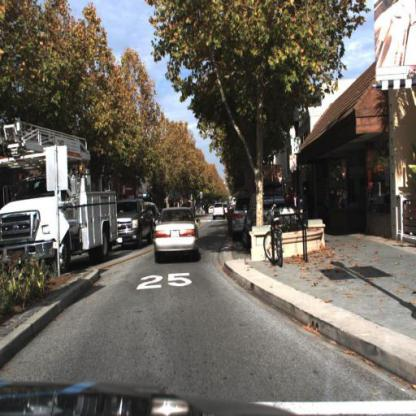car: (148, 203, 206, 267), (242, 189, 299, 251), (154, 204, 201, 264), (115, 197, 155, 248), (115, 199, 153, 248), (232, 192, 245, 242), (212, 197, 228, 223), (213, 200, 227, 225)
truck: (1, 123, 119, 274)
